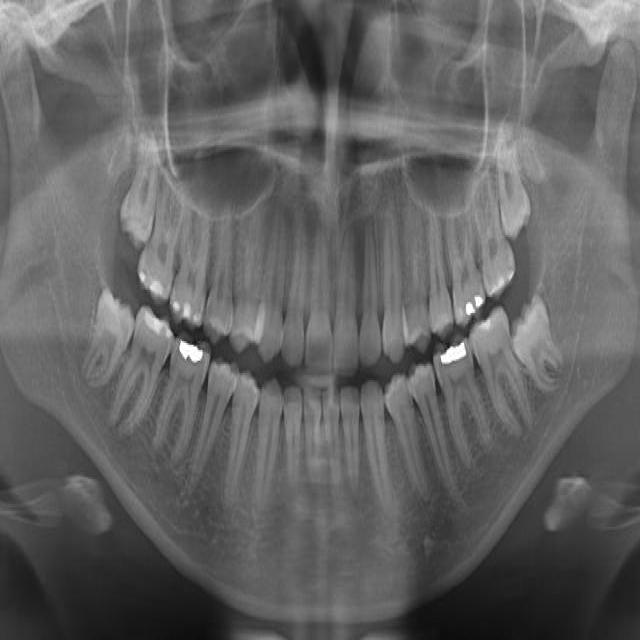dolgu: (128, 307, 176, 358), (431, 327, 476, 381), (162, 282, 205, 336), (169, 318, 207, 374), (137, 242, 168, 295), (458, 278, 486, 326)
